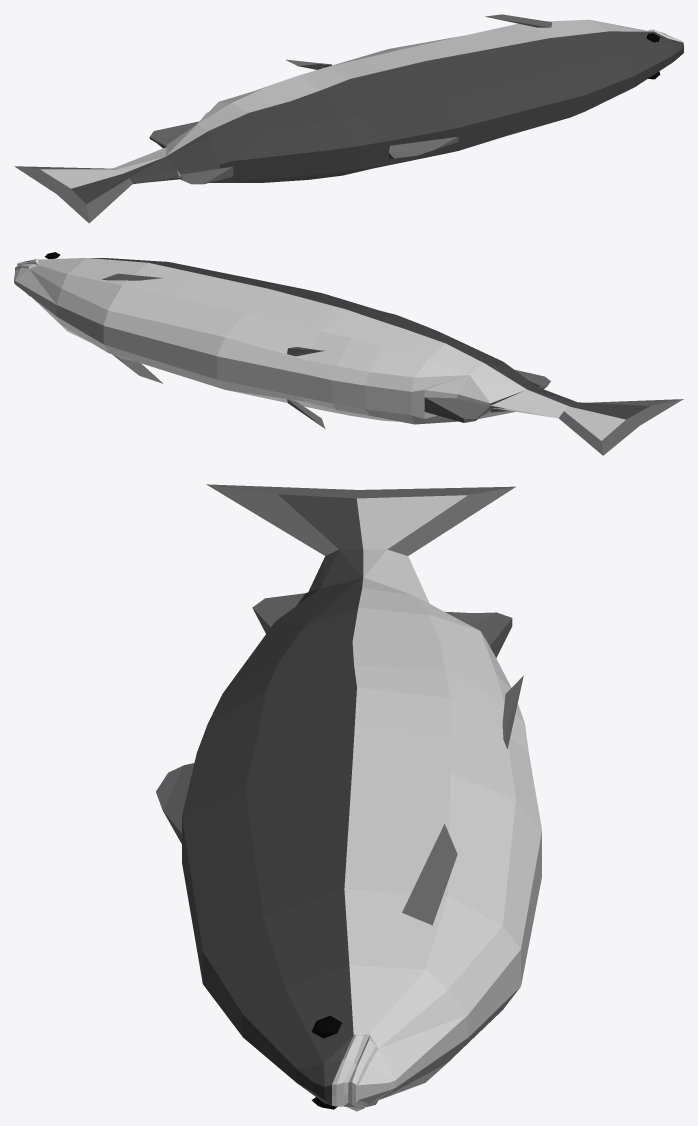
The model's file is Salmon.glb.
3 views of the same model, one above another, from view 1: azimuth 30°, elevation 25°; view 2: azimuth 150°, elevation 25°; view 3: azimuth 270°, elevation 25° (orthographic). The views are drawn at different scales.
Visible parts, largest first — view 1: Salmon; view 2: Salmon; view 3: Salmon.
Part boxes in pixels (bbox=[...]): Salmon: bbox=[14, 14, 683, 223]; Salmon: bbox=[14, 252, 683, 455]; Salmon: bbox=[156, 484, 541, 1111].
Bounding box in the file's own units: 0.7588 × 0.1213 × 0.2026.
Materials: 1 (1 with a texture image).
